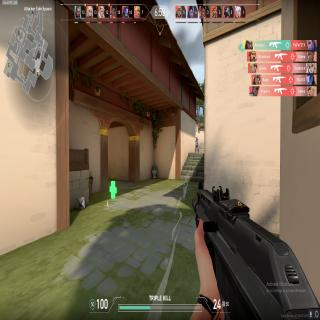ENEMY-BODY: (195, 135, 199, 153)
ENEMY-HEAD: (196, 136, 198, 140)
